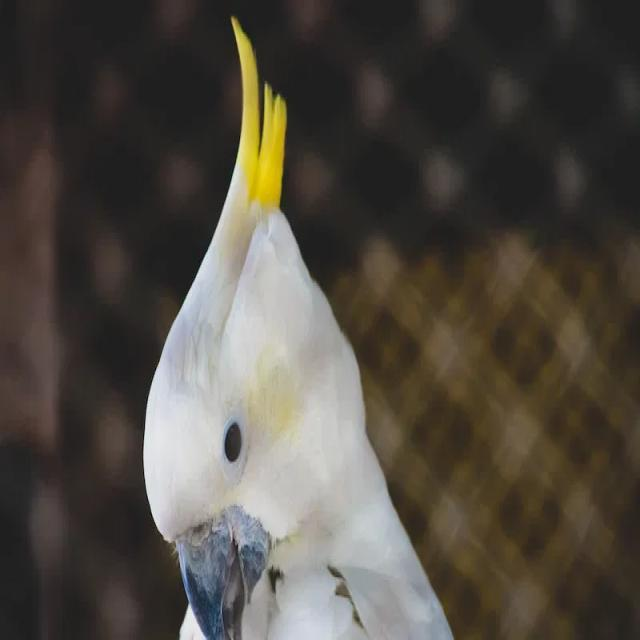Kakatua Putih: (117, 0, 476, 640)
